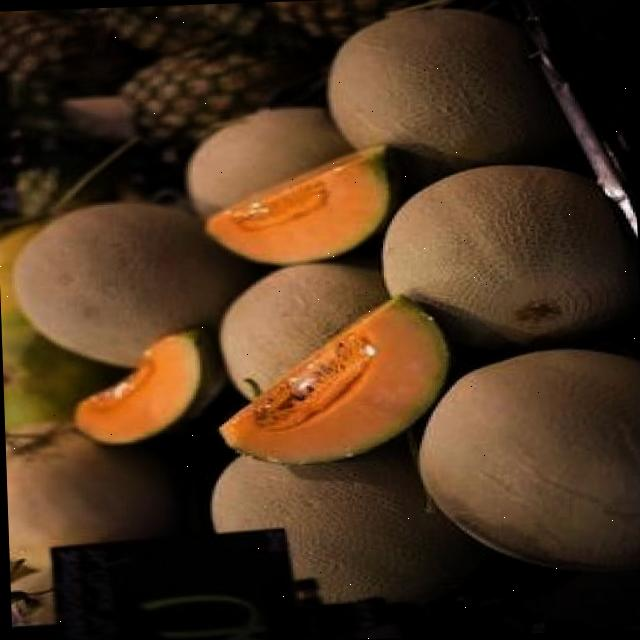Hami Melon: (412, 345, 640, 570), (378, 159, 626, 352), (214, 256, 435, 464), (12, 198, 248, 372), (208, 442, 438, 610), (322, 7, 540, 169), (184, 105, 386, 268)
